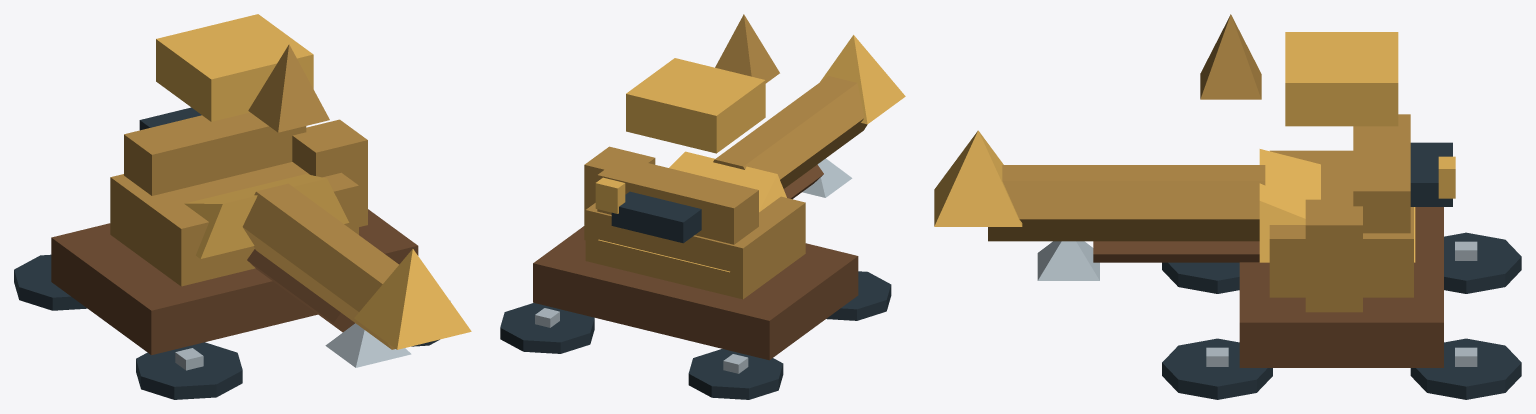
The model's file is battering-ram.obj.
3 views of the same model, side by side, from view 1: azimuth 30°, elevation 25°; view 2: azimuth 150°, elevation 25°; view 3: azimuth 270°, elevation 25° (orthographic). The views are drawn at different scales.
Parts seen in each view (by area): view 1: siege; view 2: siege; view 3: siege.
Boxes of the visible parts, x1,y1,x2,y2 form: siege: (14, 14, 471, 399); siege: (500, 14, 905, 399); siege: (934, 14, 1521, 399).
Bounding box in the file's own units: 1.9 × 1.78 × 3.07.
